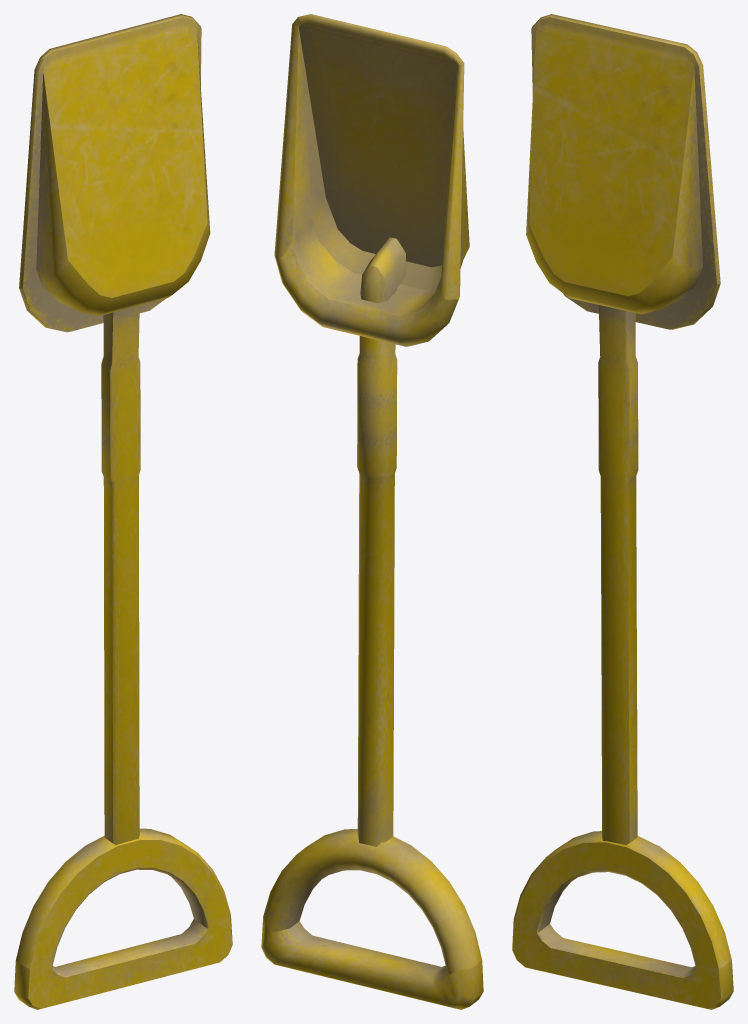
File: PlasticShovel.glb
3 views of the same model, side by side, from view 1: azimuth 30°, elevation 25°; view 2: azimuth 150°, elevation 25°; view 3: azimuth 330°, elevation 25° (orthographic).
Visible parts, largest first — view 1: shovel_low, s_frame_low, s_handle_low; view 2: shovel_low, s_frame_low, s_handle_low; view 3: shovel_low, s_frame_low, s_handle_low.
Part boxes in pixels (box(x1,y1,x2,y2)): shovel_low: box(19, 14, 210, 332); s_frame_low: box(101, 305, 140, 845); s_handle_low: box(14, 828, 232, 1009); shovel_low: box(274, 14, 469, 346); s_frame_low: box(357, 237, 406, 846); s_handle_low: box(261, 829, 483, 1009); shovel_low: box(526, 14, 720, 329); s_frame_low: box(598, 305, 638, 845); s_handle_low: box(512, 831, 733, 1009).
Size of the model in its own units: 0.2577 by 1.11 by 0.0885.
Materials: 1 (1 with a texture image).
